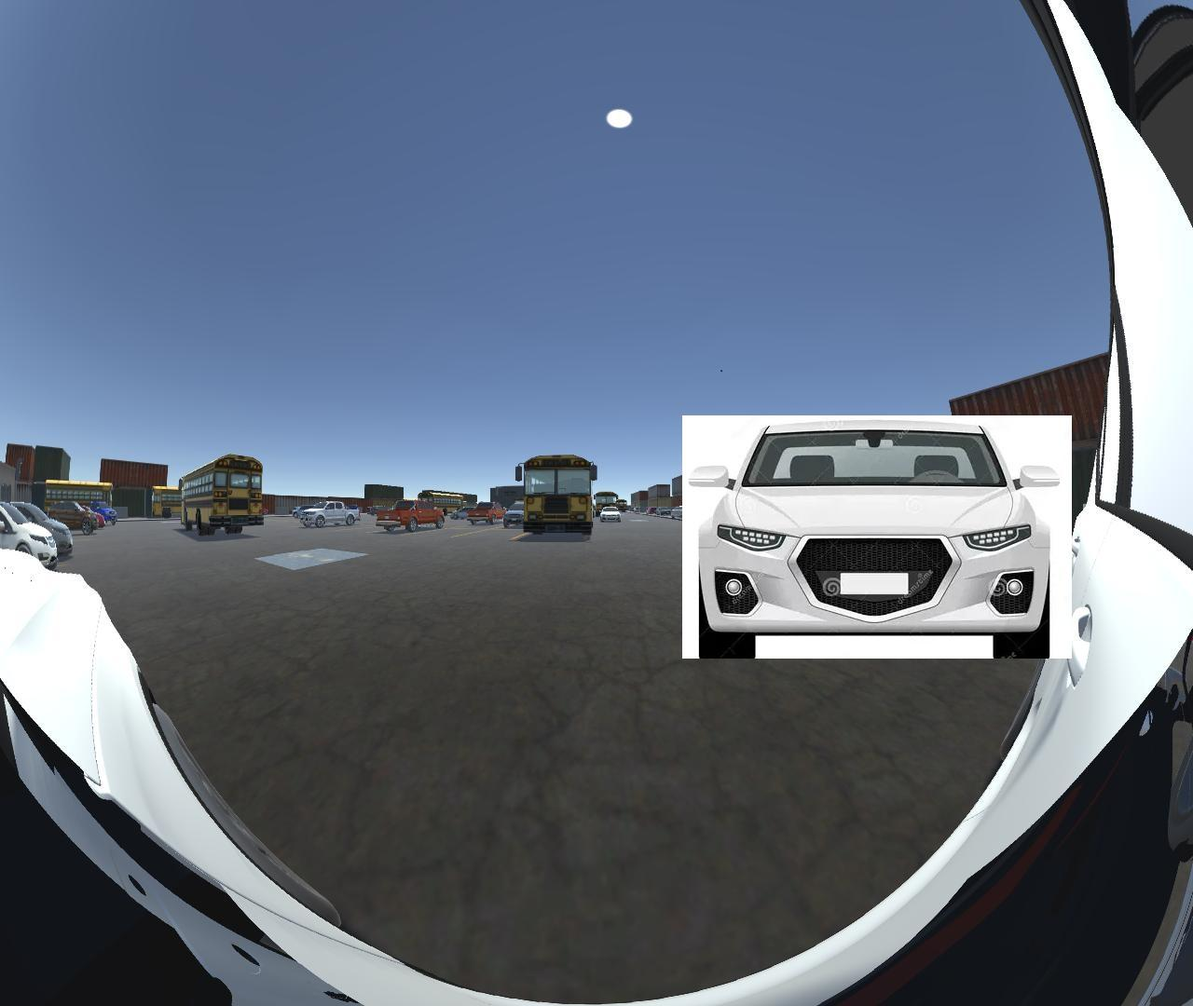Car: (682, 418, 1069, 657)
